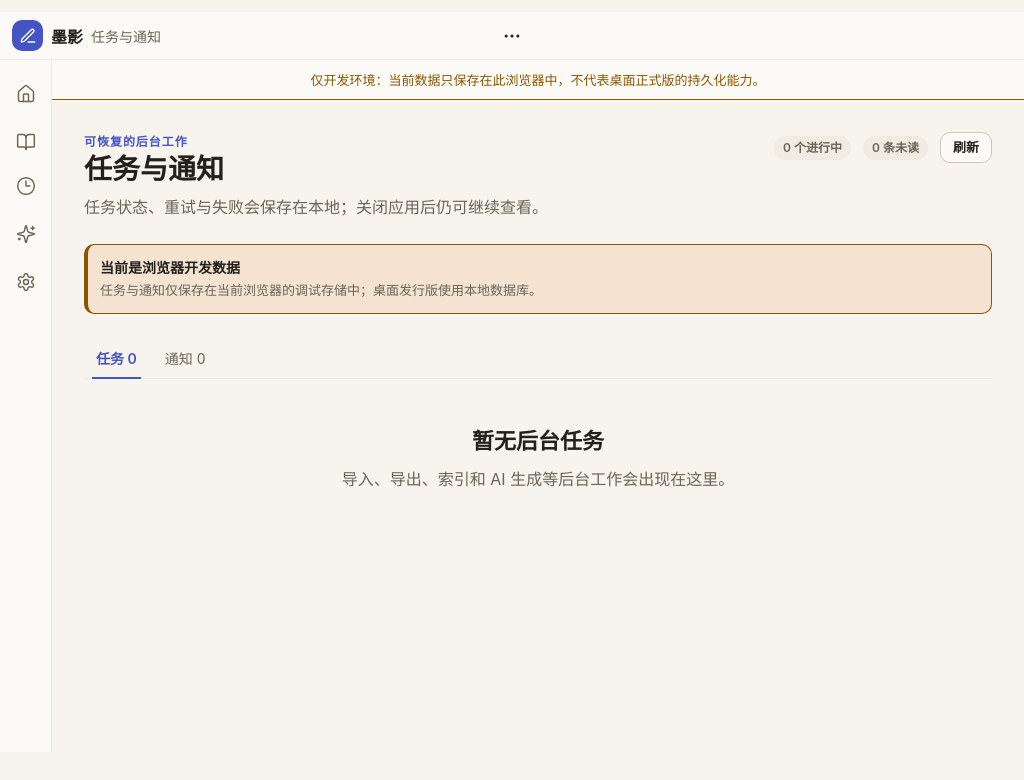
Test: TaskCenterPage › keeps the clear-read action available when read notifications are outside the visible page
The width and height of the screenshot is (1024, 780).
Expected: the heading "任务与通知" is shown, [84,152,224,186]
Step 1. Click the tab "通知 0" → (185, 358), box [153,338,218,378]
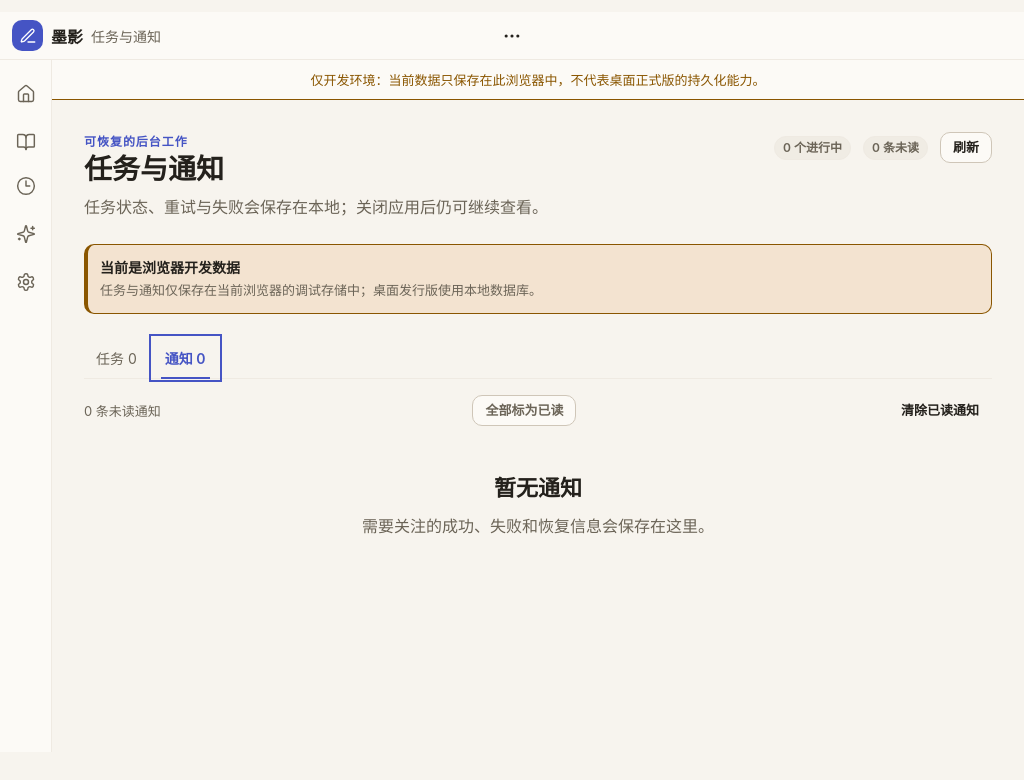
Expected: the button "清除已读通知" is enabled
Step 2. Click the button "清除已读通知" → (940, 410), box [888,395,992,426]
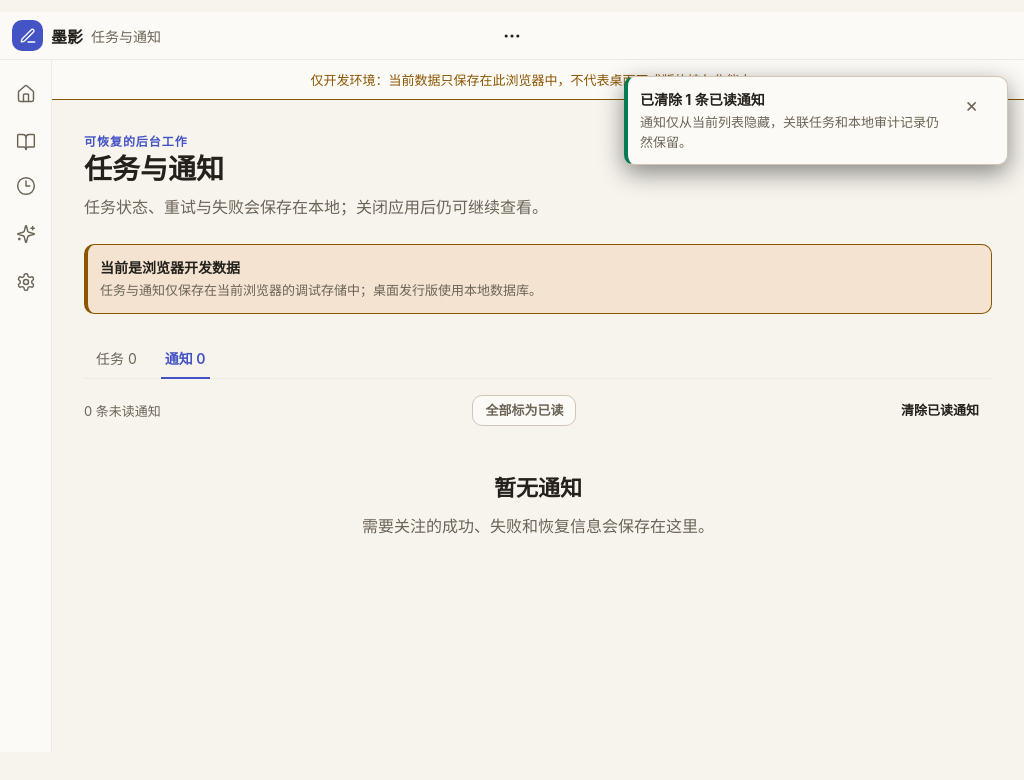
Expected: the text "已清除 1 条已读通知" is shown, [640,91,765,108]
